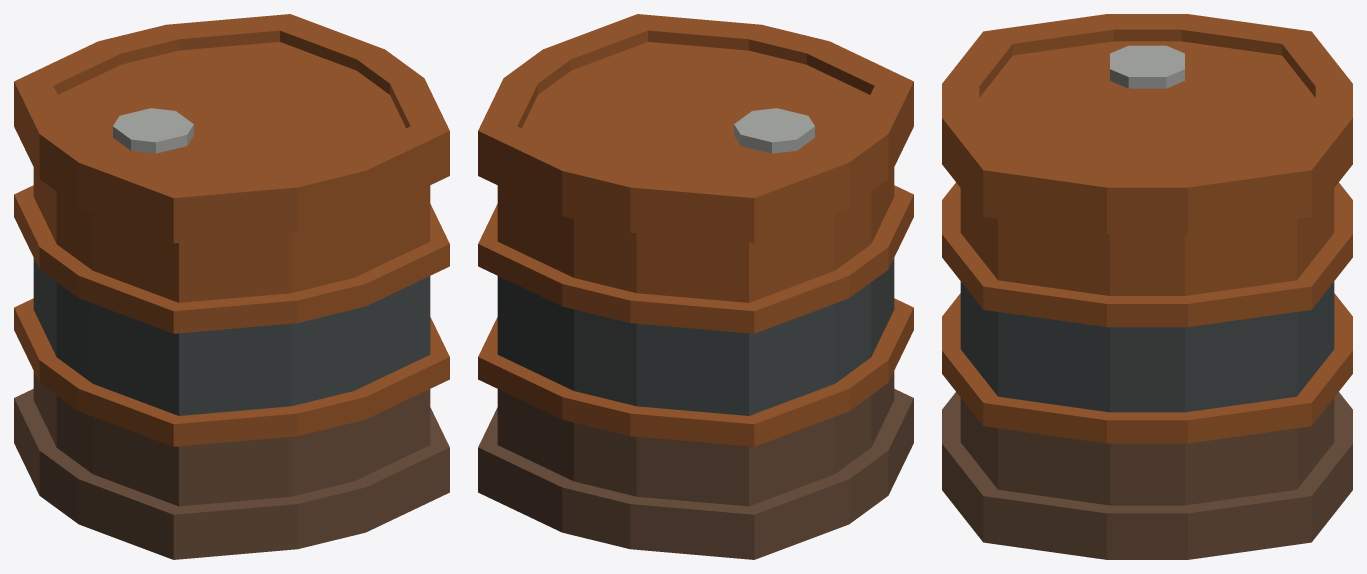
The model's file is barrel.glb.
The picture shows the model from 3 angles, left to right: view 1: azimuth 30°, elevation 25°; view 2: azimuth 150°, elevation 25°; view 3: azimuth 270°, elevation 25°; orthographic projection. The views are drawn at different scales.
Bounding box in the file's own units: 1 × 1 × 1.
